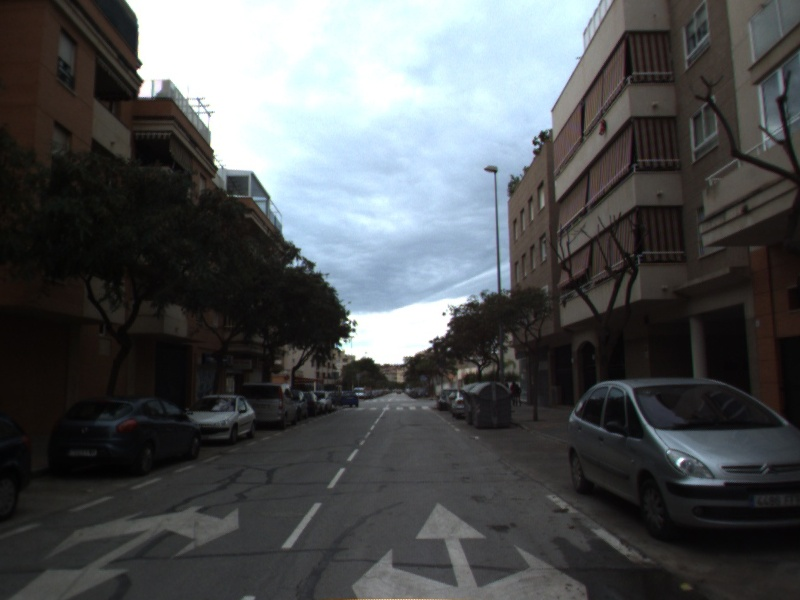STRAIGHT_LEFT_RIGHT: (347, 498, 592, 600)
